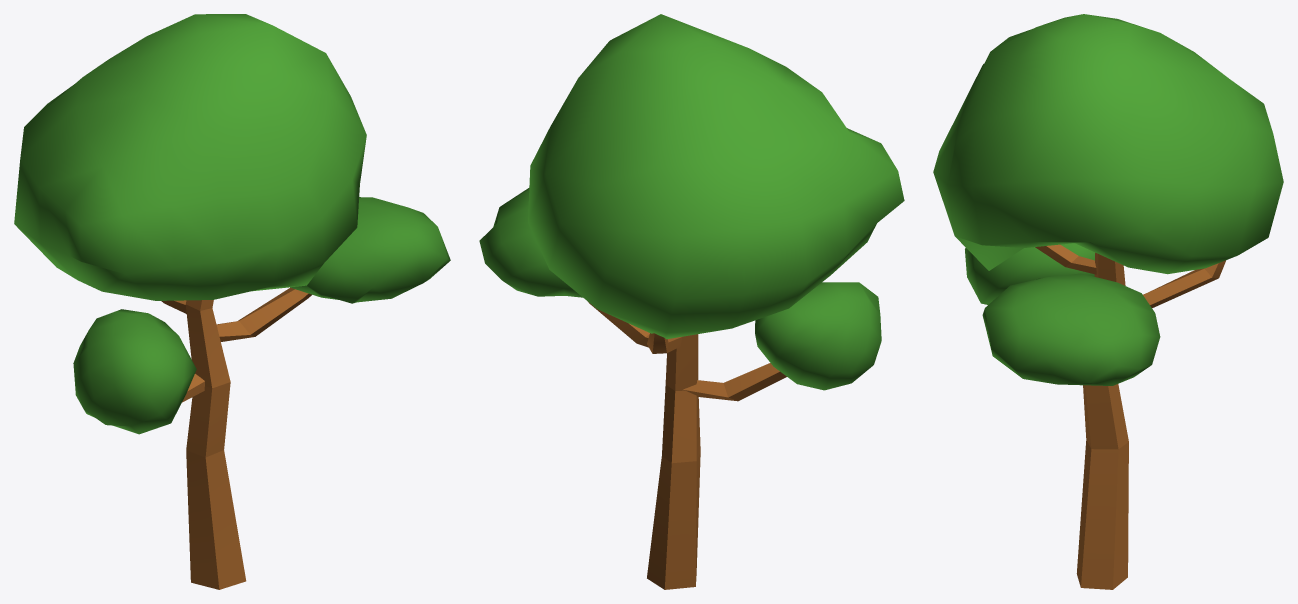
Rendered from Tree_19_Spring.fbx.
3 renders of one model, left to right at view 1: azimuth 30°, elevation 25°; view 2: azimuth 150°, elevation 25°; view 3: azimuth 270°, elevation 25°, orthographic. The views are drawn at different scales.
Visible parts, largest first — view 1: Tree_19_p2_Spring, Tree_19_p1_Spring; view 2: Tree_19_p2_Spring, Tree_19_p1_Spring; view 3: Tree_19_p2_Spring, Tree_19_p1_Spring.
Part boxes in pixels (x1,y1,x2,y2): Tree_19_p2_Spring: (14, 14, 450, 434); Tree_19_p1_Spring: (161, 287, 311, 589); Tree_19_p2_Spring: (479, 14, 904, 390); Tree_19_p1_Spring: (588, 302, 786, 589); Tree_19_p2_Spring: (933, 14, 1283, 385); Tree_19_p1_Spring: (1035, 244, 1225, 589).
Bounding box in the file's own units: 332 × 461 × 264.
